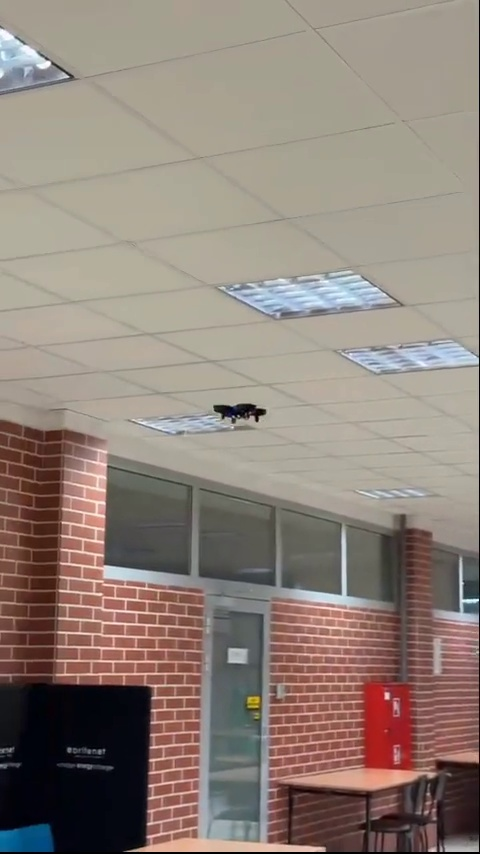drone: (212, 395, 269, 425)
